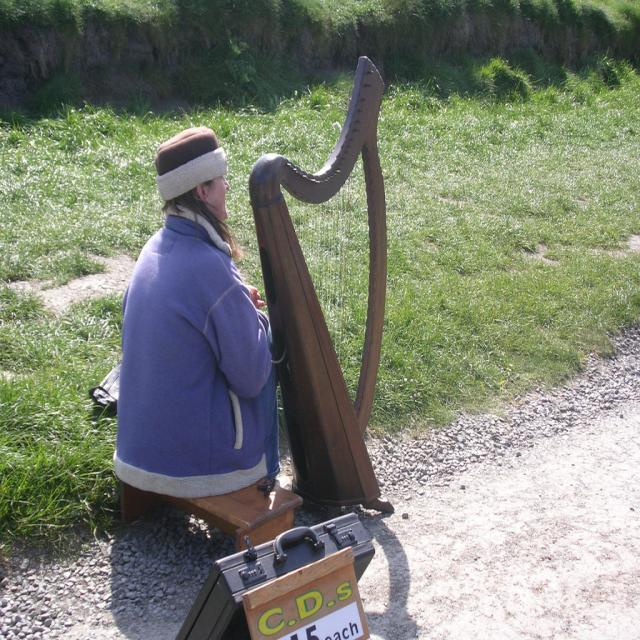harp: (241, 51, 401, 516)
